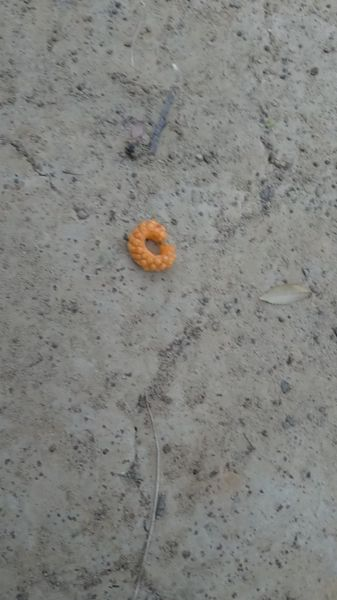eggs: (124, 213, 179, 277)
